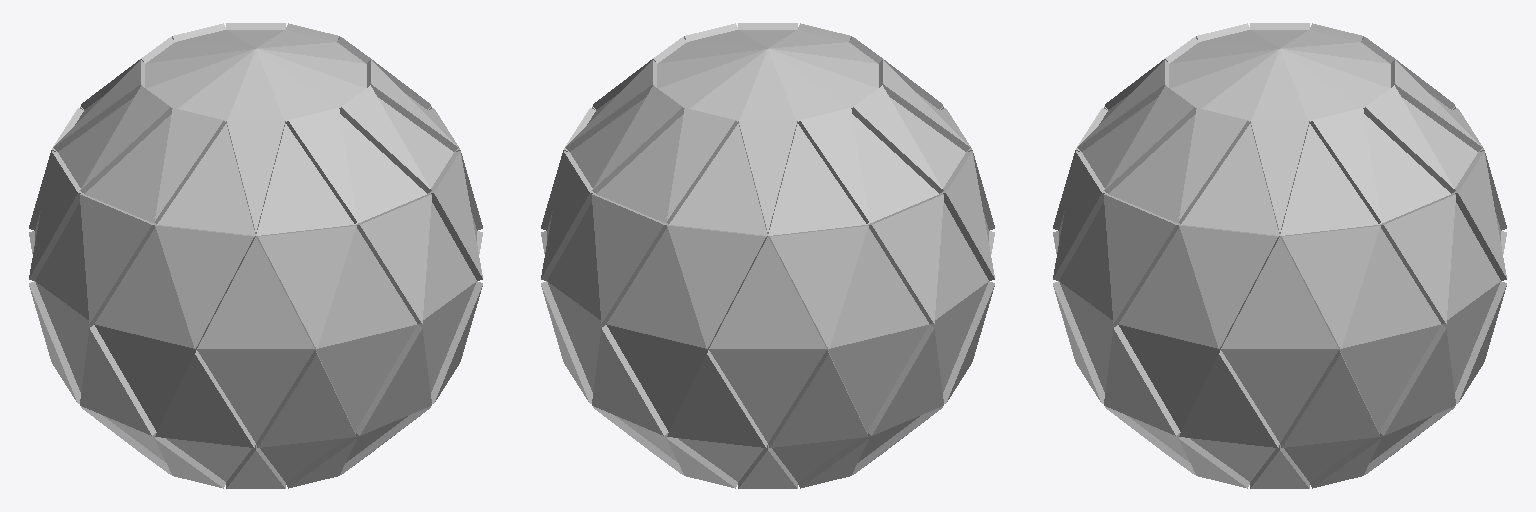
File: BridgeShield.obj
3 views of the same model, side by side, from view 1: azimuth 30°, elevation 25°; view 2: azimuth 150°, elevation 25°; view 3: azimuth 270°, elevation 25° (orthographic).
Visible parts, largest first — view 1: Icosphere; view 2: Icosphere; view 3: Icosphere.
Boxes of the visible parts, x1,y1,x2,y2 form: Icosphere: [29, 23, 482, 488]; Icosphere: [541, 23, 994, 488]; Icosphere: [1053, 23, 1506, 488].
Bounding box in the file's own units: 0.1303 × 0.1311 × 0.1303.